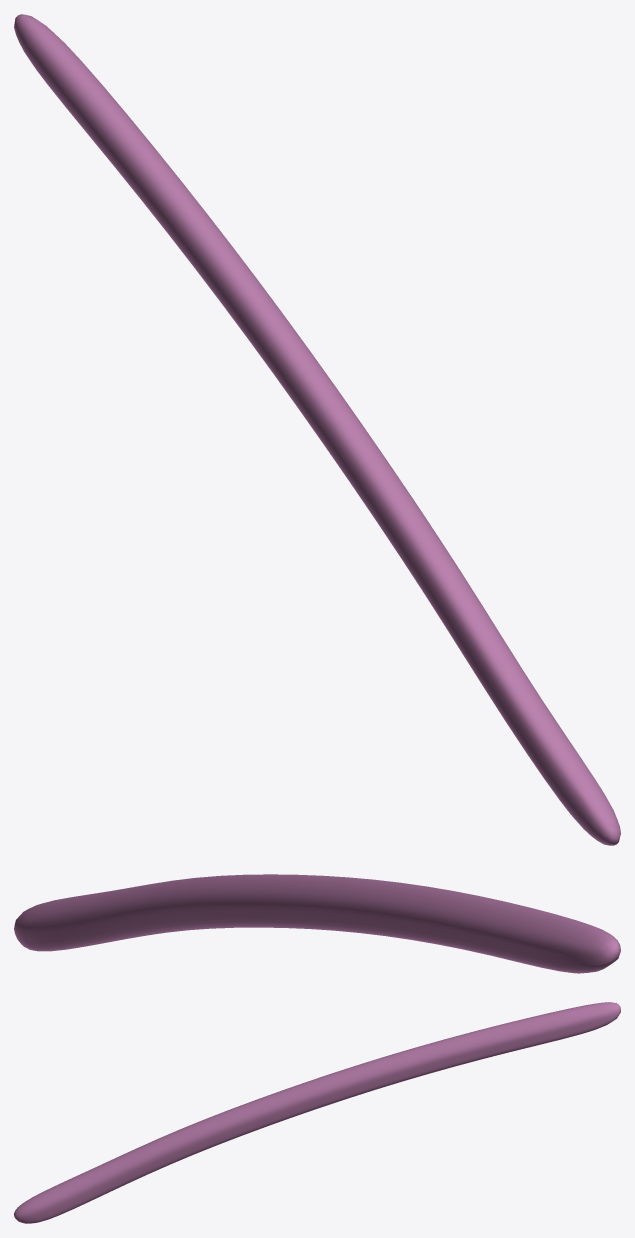
3 views of the same model, one above another, from view 1: azimuth 30°, elevation 25°; view 2: azimuth 210°, elevation 25°; view 3: azimuth 270°, elevation 25° (orthographic). The views are drawn at different scales.
Visible parts, largest first — view 1: 左侧副神经核; view 2: 左侧副神经核; view 3: 左侧副神经核.
Part boxes in pixels (<box>): 左侧副神经核: <box>14,14,620,845</box>; 左侧副神经核: <box>14,874,620,973</box>; 左侧副神经核: <box>14,1002,620,1223</box>.
Bounding box in the file's own units: 0.00174 × 0.0154 × 0.0394.
